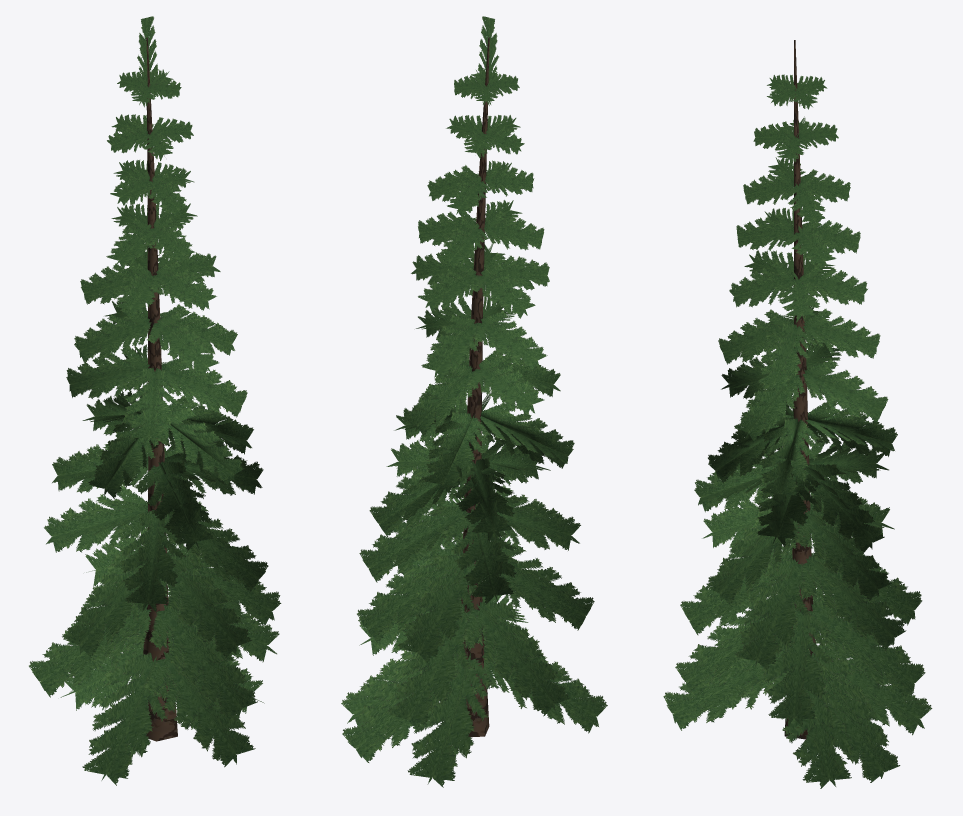
File: spruce1_lod1.fbx
3 views of the same model, side by side, from view 1: azimuth 30°, elevation 25°; view 2: azimuth 150°, elevation 25°; view 3: azimuth 270°, elevation 25° (orthographic). The views are drawn at different scales.
Parts seen in each view (by area): view 1: spruce1_lod1; view 2: spruce1_lod1; view 3: spruce1_lod1.
Part boxes in pixels (<box>): spruce1_lod1: <box>29,16,281,785</box>; spruce1_lod1: <box>341,16,607,787</box>; spruce1_lod1: <box>663,40,932,788</box>.
Size of the model in its own units: 6.79 by 19.4 by 7.08.
Materials: 2 (2 with a texture image).
